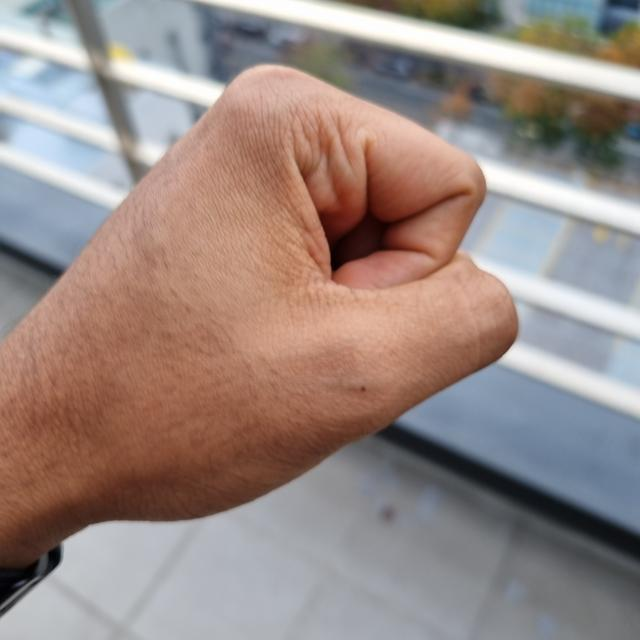Rock: (0, 66, 516, 530)
